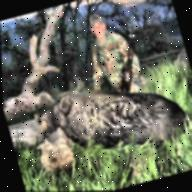boar: (20, 55, 192, 192)
